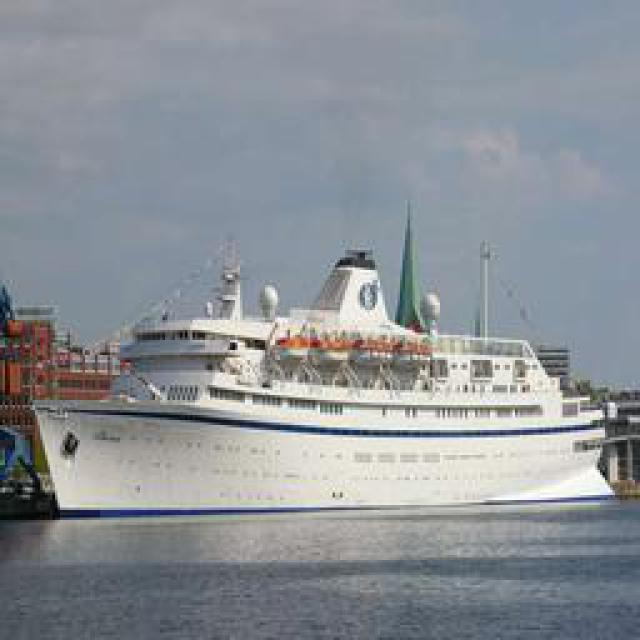Ship: (26, 218, 614, 506)
